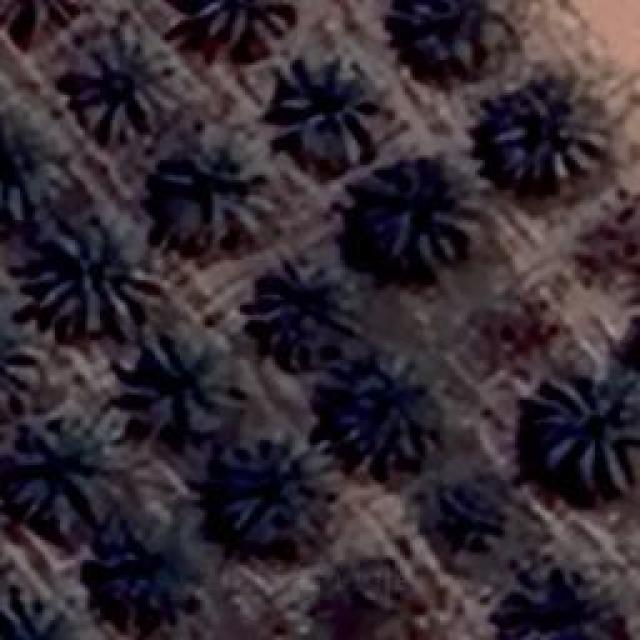PalmTree: (35, 48, 70, 616), (30, 210, 160, 332), (101, 502, 209, 626), (68, 20, 180, 138), (12, 410, 130, 522), (218, 425, 340, 533), (168, 128, 280, 245), (272, 47, 382, 165), (365, 154, 473, 268), (340, 354, 442, 468), (492, 80, 608, 180), (252, 258, 360, 362), (534, 372, 638, 480), (385, 0, 533, 75), (142, 332, 240, 432), (322, 562, 426, 640), (506, 577, 623, 640), (426, 475, 504, 553), (0, 114, 60, 214), (21, 114, 42, 359), (192, 0, 292, 48), (0, 0, 84, 30)
